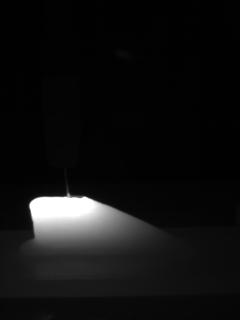tip_wire_left: (49, 161, 70, 197)
tip_wire_right: (67, 161, 79, 197)
